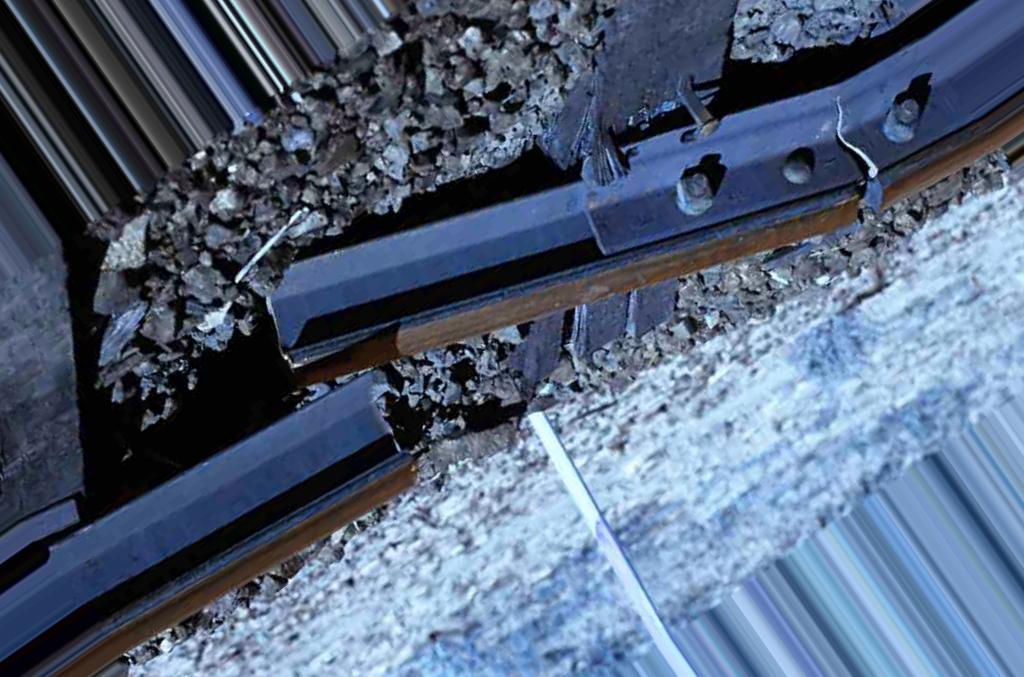tracks_fault: (249, 232, 563, 499), (738, 96, 930, 259)
